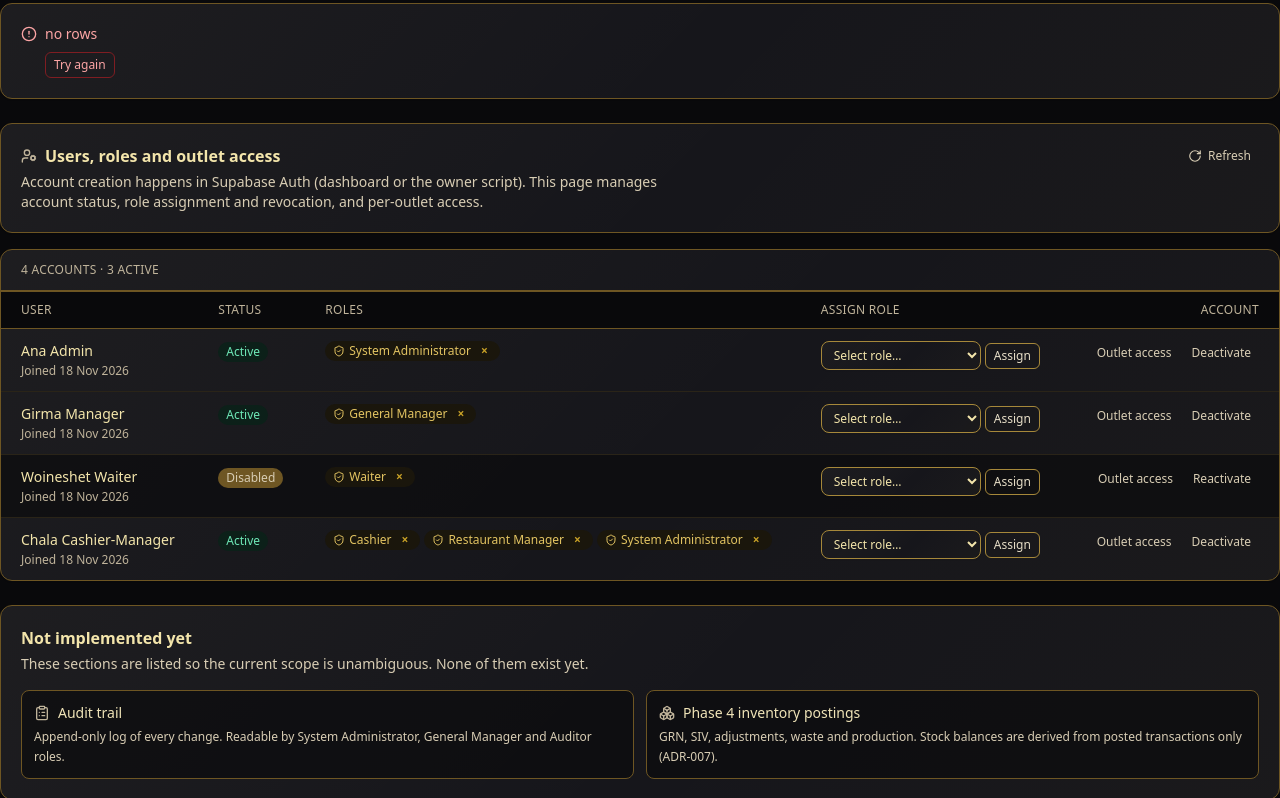
Test: Settings — users › revokes one role while keeping the others
The image size is (1280, 798).
(page scrolled)
Expected: the text "Chala Cashier-Manager" is shown, [21,530,178,550]
Click the button named "Revoke Cashier from Chala Cashier-Manager".
click(405, 540)  # box [398,532,412,548]
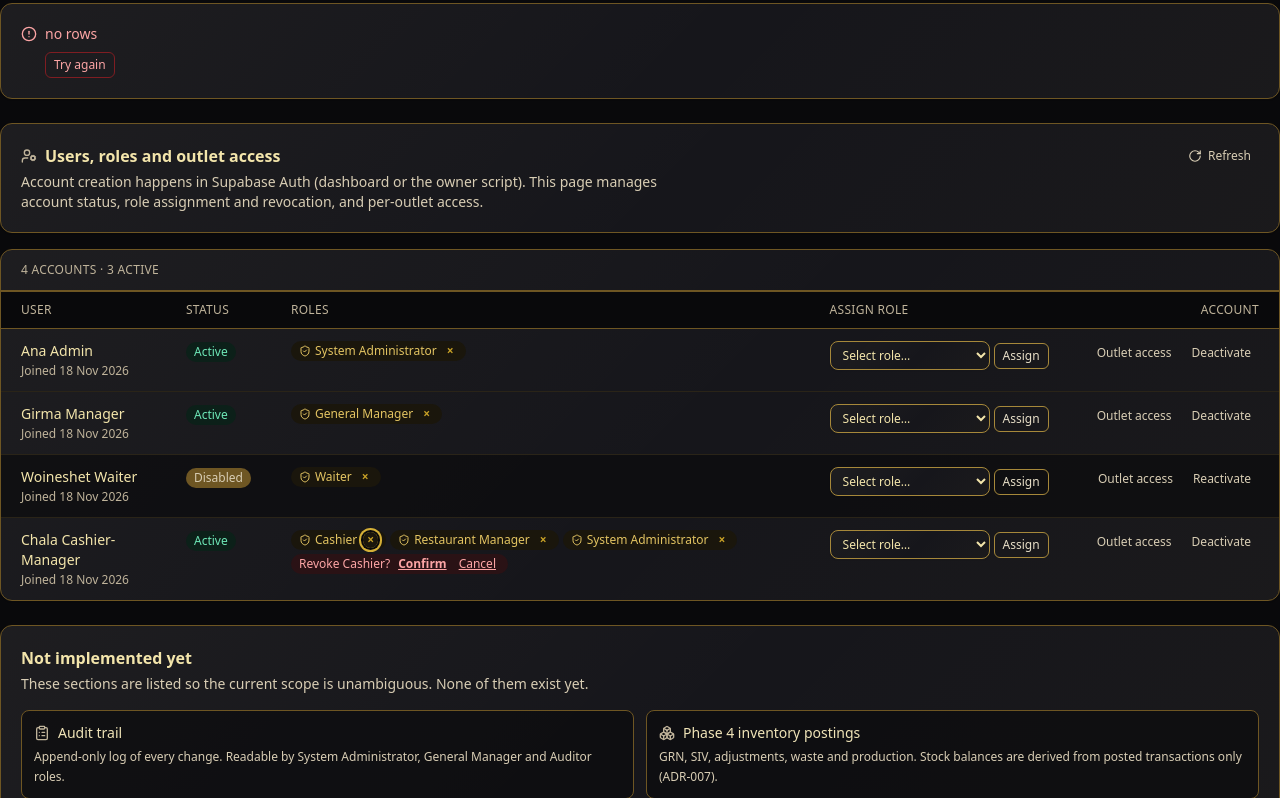
Click the button with aria-label "Confirm revoke Cashier from Chala Cashier-Manager".
click(422, 564)  # box [394,556,451,572]
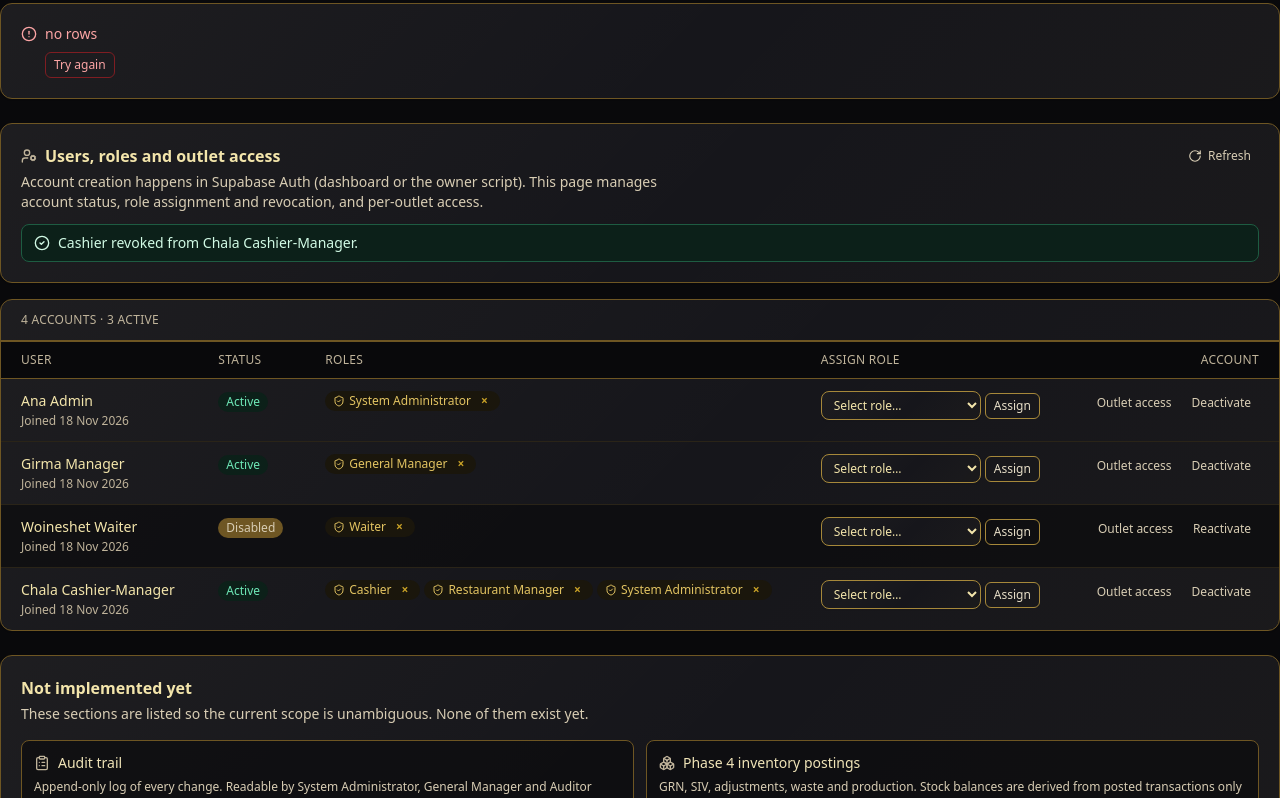
Result: the message shows "Cashier revoked from Chala Cashier-Manager" at [58,233,358,252]
